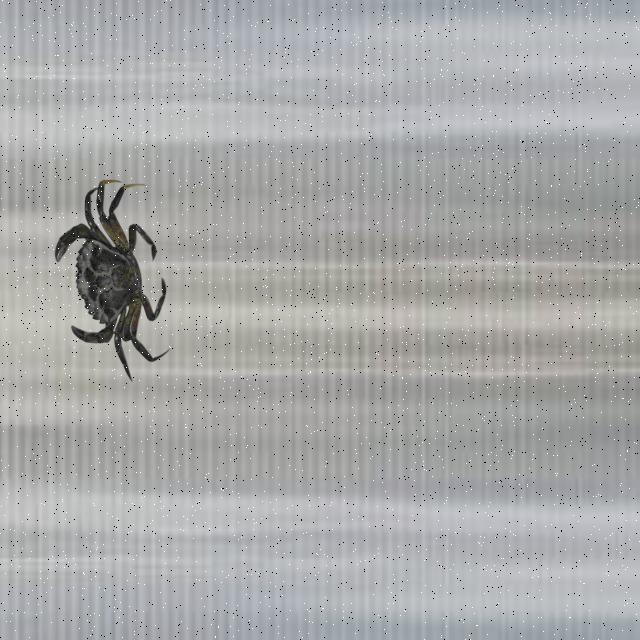European_Green_Crab: (41, 172, 184, 392)
